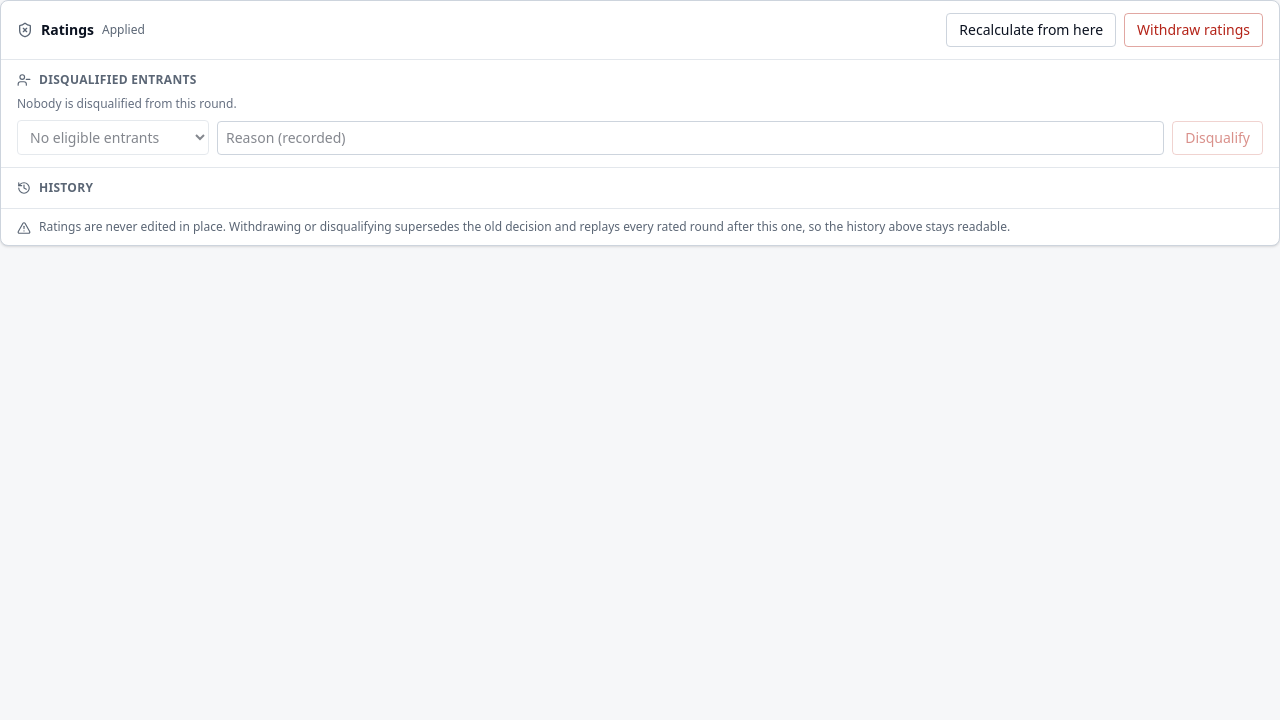
ContestRatingLedger › asks before withdrawing a round, and says the standings survive
Click the button "Withdraw ratings" at (1194, 30), box x1=1124 y1=13 x2=1263 y2=47
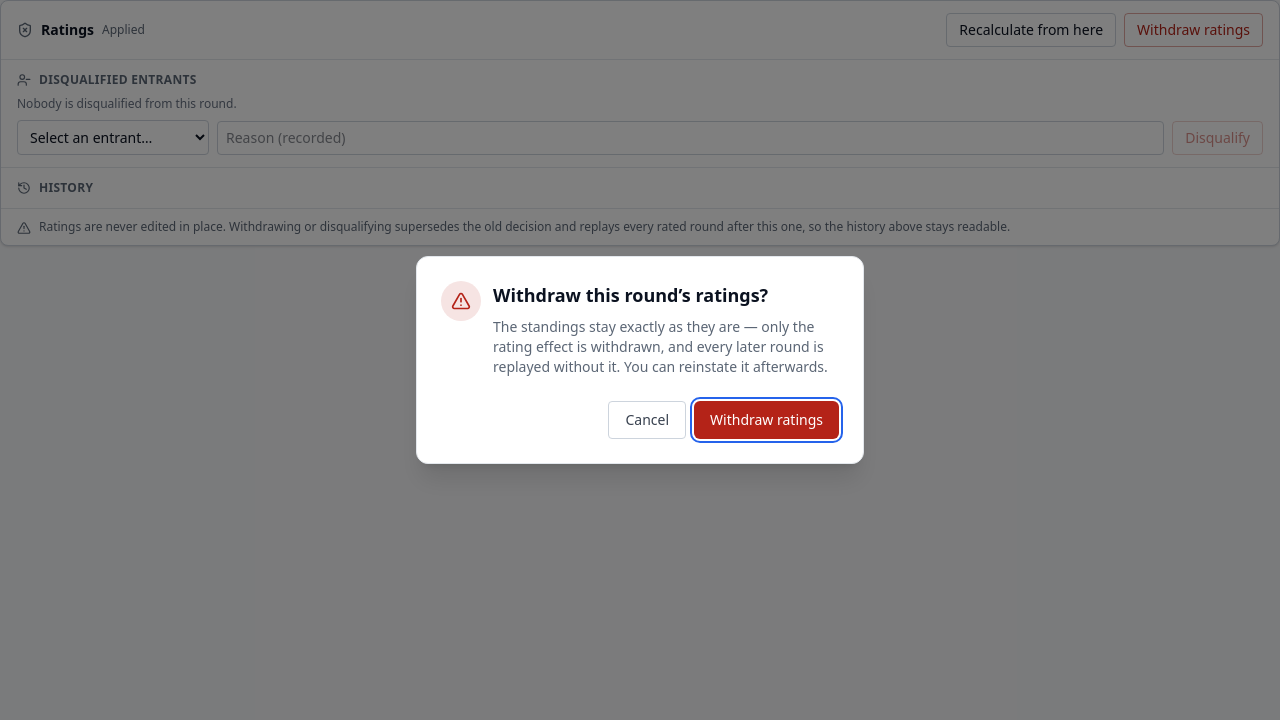
Check: the text "standings stay exactly as they are" is shown, box x1=493 y1=317 x2=828 y2=376
Click the button "Withdraw ratings" at (766, 420), box x1=694 y1=401 x2=839 y2=439
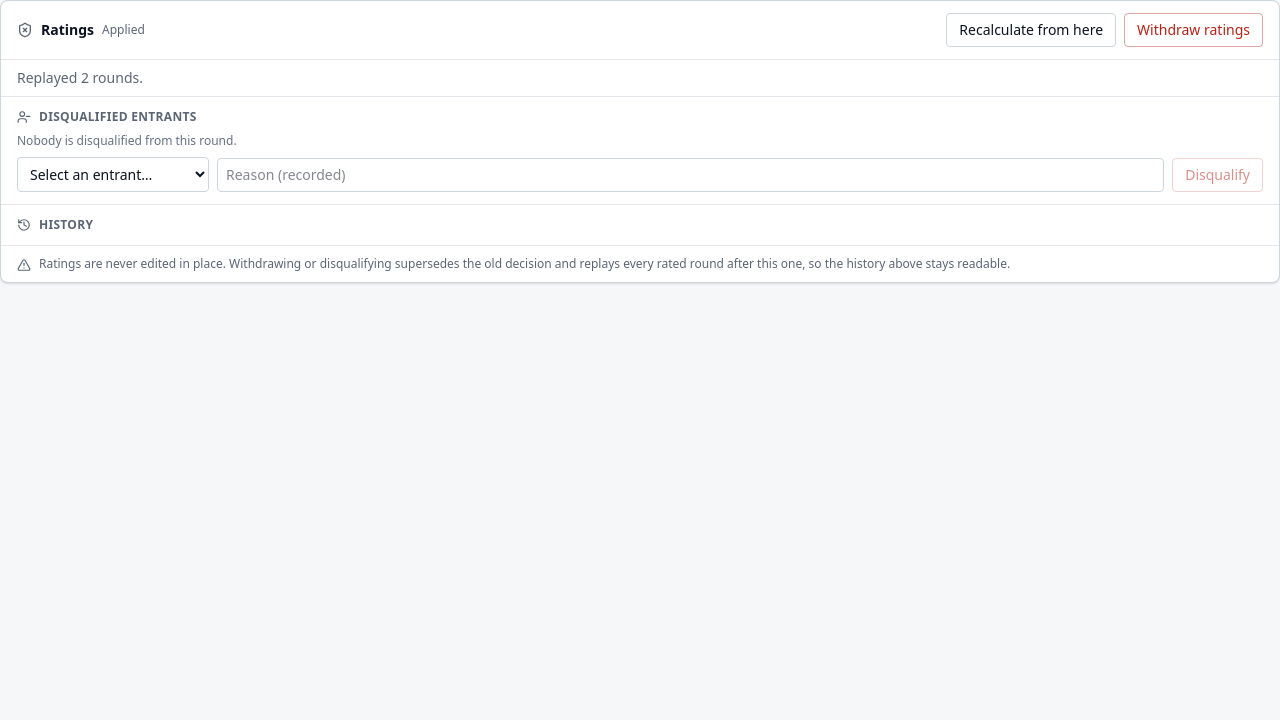
Check: the text "Replayed 2 rounds." is shown, box x1=1 y1=60 x2=1279 y2=97
